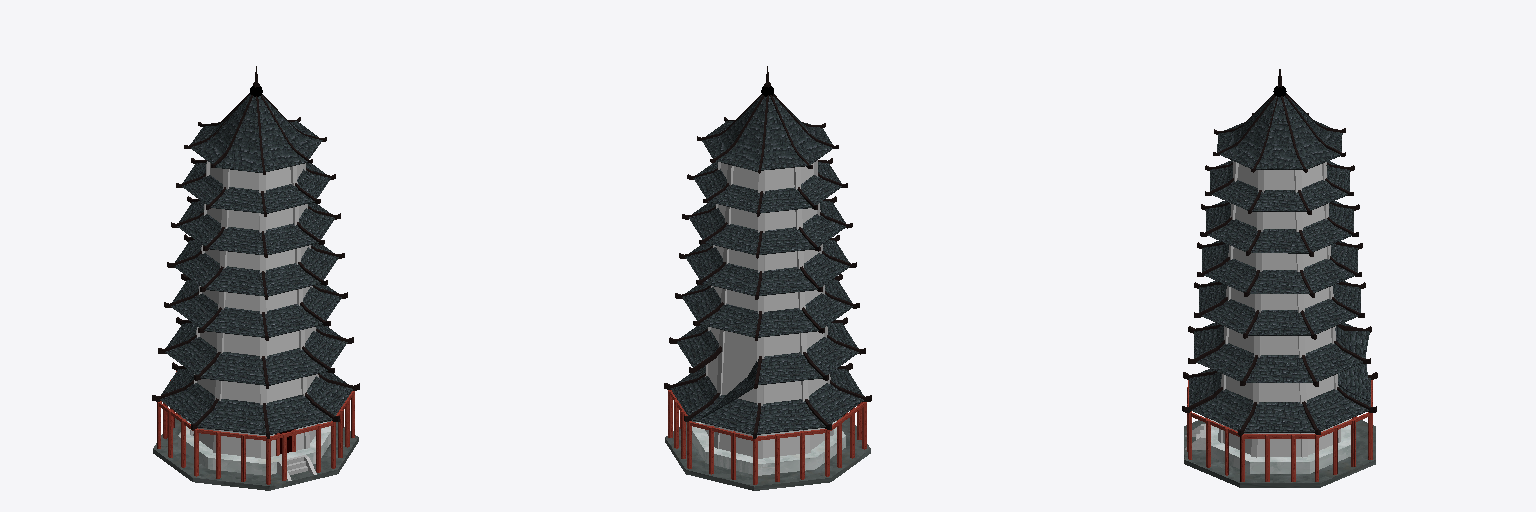
3 renders of one model, left to right at view 1: azimuth 30°, elevation 25°; view 2: azimuth 150°, elevation 25°; view 3: azimuth 270°, elevation 25°, orthographic.
Visible parts, largest first — view 1: Цилиндр_Цилиндр_towercolor, Цилиндр.001_Цилиндр.001_plate, Цилиндр.002_Цилиндр.002_whitePlate, Плоскость.007_Плоскость.009_roof, Плоскость.048_Плоскость.001_highRoff, Плоскость_Плоскость_roof, Плоскость.049_Плоскость.002_highRoff, Плоскость.015_Плоскость.017_roof, Плоскость.008_Плоскость.010_roof, Плоскость.023_Плоскость.025_roof, Плоскость.031_Плоскость.033_roof, Плоскость.006_Плоскость.008_roof (+22 smaller); view 2: Цилиндр_Цилиндр_towercolor, Цилиндр.001_Цилиндр.001_plate, Цилиндр.002_Цилиндр.002_whitePlate, Плоскость.005_Плоскость.007_roof, Плоскость.055_Плоскость.062_highRoff, Плоскость.053_Плоскость.061_highRoff, Плоскость.004_Плоскость.006_roof, Плоскость.013_Плоскость.015_roof, Плоскость.021_Плоскость.023_roof, Плоскость.006_Плоскость.008_roof, Плоскость.020_Плоскость.022_roof, Плоскость.029_Плоскость.031_roof (+22 smaller); view 3: Цилиндр_Цилиндр_towercolor, Цилиндр.001_Цилиндр.001_plate, Цилиндр.002_Цилиндр.002_whitePlate, Плоскость.002_Плоскость.004_roof, Плоскость.051_Плоскость.059_highRoff, Плоскость.010_Плоскость.012_roof, Плоскость.012_Плоскость.014_roof, Плоскость.003_Плоскость.005_roof, Плоскость.001_Плоскость.003_roof, Плоскость.052_Плоскость.060_highRoff, Плоскость.018_Плоскость.020_roof, Плоскость.050_Плоскость.058_highRoff (+22 smaller).
Boxes of the visible parts, x1=… form: Цилиндр_Цилиндр_towercolor: x1=193, y1=163, x2=318, y2=457; Цилиндр.001_Цилиндр.001_plate: x1=153, y1=416, x2=358, y2=490; Цилиндр.002_Цилиндр.002_whitePlate: x1=178, y1=421, x2=330, y2=475; Плоскость.007_Плоскость.009_roof: x1=197, y1=399, x2=265, y2=434; Плоскость.048_Плоскость.001_highRoff: x1=215, y1=96, x2=262, y2=172; Плоскость_Плоскость_roof: x1=266, y1=395, x2=332, y2=434; Плоскость.049_Плоскость.002_highRoff: x1=258, y1=96, x2=307, y2=171; Плоскость.015_Плоскость.017_roof: x1=200, y1=352, x2=265, y2=385; Плоскость.008_Плоскость.010_roof: x1=265, y1=348, x2=327, y2=385; Плоскость.023_Плоскость.025_roof: x1=204, y1=307, x2=264, y2=337; Плоскость.031_Плоскость.033_roof: x1=206, y1=266, x2=264, y2=296; Плоскость.006_Плоскость.008_roof: x1=160, y1=383, x2=214, y2=423; Цилиндр_Цилиндр_towercolor: x1=705, y1=163, x2=826, y2=457; Цилиндр.001_Цилиндр.001_plate: x1=665, y1=416, x2=870, y2=490; Цилиндр.002_Цилиндр.002_whitePlate: x1=692, y1=421, x2=845, y2=475; Плоскость.005_Плоскость.007_roof: x1=757, y1=399, x2=825, y2=434; Плоскость.055_Плоскость.062_highRoff: x1=761, y1=96, x2=807, y2=170; Плоскость.053_Плоскость.061_highRoff: x1=716, y1=97, x2=766, y2=171; Плоскость.004_Плоскость.006_roof: x1=691, y1=395, x2=757, y2=434; Плоскость.013_Плоскость.015_roof: x1=758, y1=352, x2=822, y2=384; Плоскость.021_Плоскость.023_roof: x1=758, y1=308, x2=818, y2=337; Плоскость.006_Плоскость.008_roof: x1=809, y1=383, x2=863, y2=423; Плоскость.020_Плоскость.022_roof: x1=700, y1=304, x2=758, y2=337; Плоскость.029_Плоскость.031_roof: x1=759, y1=267, x2=817, y2=295; Цилиндр_Цилиндр_towercolor: x1=1223, y1=164, x2=1335, y2=456; Цилиндр.001_Цилиндр.001_plate: x1=1184, y1=417, x2=1375, y2=487; Цилиндр.002_Цилиндр.002_whitePlate: x1=1208, y1=418, x2=1351, y2=473; Плоскость.002_Плоскость.004_roof: x1=1244, y1=402, x2=1314, y2=432; Плоскость.051_Плоскость.059_highRoff: x1=1256, y1=96, x2=1303, y2=169; Плоскость.010_Плоскость.012_roof: x1=1246, y1=355, x2=1312, y2=382; Плоскость.012_Плоскость.014_roof: x1=1335, y1=326, x2=1370, y2=401; Плоскость.003_Плоскость.005_roof: x1=1306, y1=389, x2=1368, y2=430; Плоскость.001_Плоскость.003_roof: x1=1191, y1=389, x2=1253, y2=430; Плоскость.052_Плоскость.060_highRoff: x1=1283, y1=96, x2=1340, y2=168; Плоскость.018_Плоскость.020_roof: x1=1248, y1=310, x2=1310, y2=335; Плоскость.050_Плоскость.058_highRoff: x1=1219, y1=97, x2=1275, y2=168.
Bounding box in the file's own units: 8.15 × 17.69 × 8.16.
Materials: 14 (9 with a texture image).